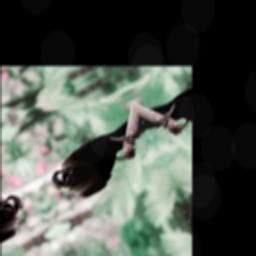Crow: (41, 114, 162, 210)
